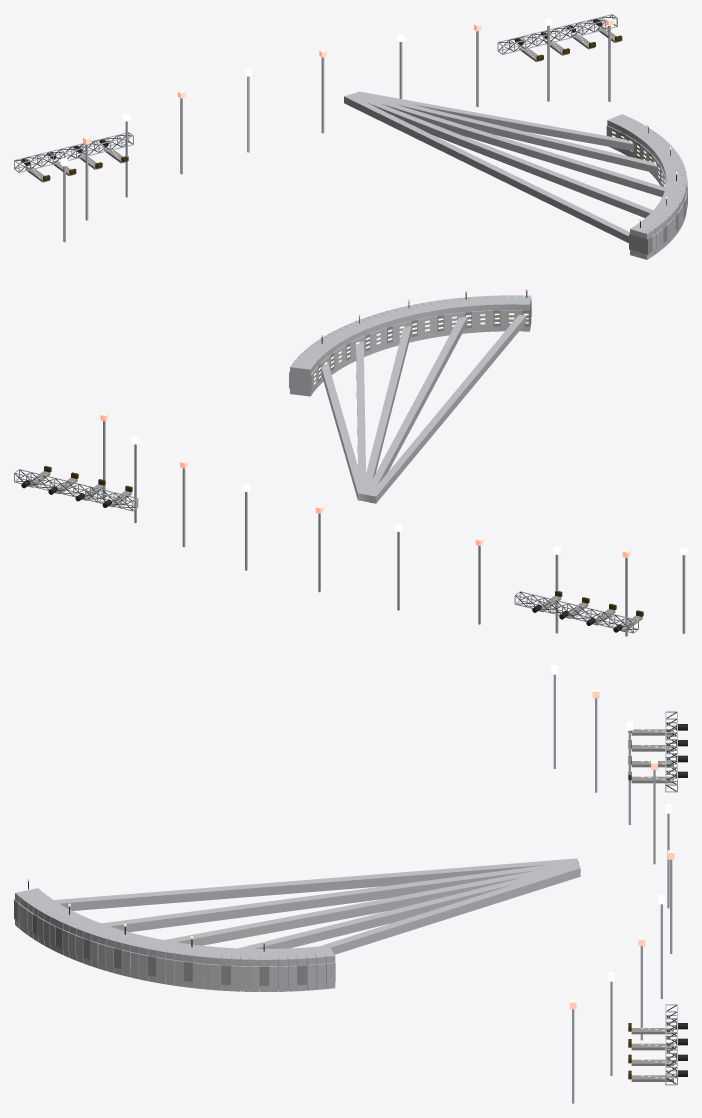
File: meridian-surroundings.glb
The picture shows the model from 3 angles, top to bottom: view 1: azimuth 30°, elevation 25°; view 2: azimuth 150°, elevation 25°; view 3: azimuth 270°, elevation 25°; orthographic projection. The views are drawn at different scales.
Visible parts, largest first — view 1: vantor_s0; view 2: vantor_s0; view 3: vantor_s0.
Part boxes in pixels (<box>): vantor_s0: <box>14,14,687,259</box>; vantor_s0: <box>14,288,687,636</box>; vantor_s0: <box>14,665,687,1103</box>.
Bounding box in the file's own units: 367 × 52 × 288.
10 materials, 2 textured.
